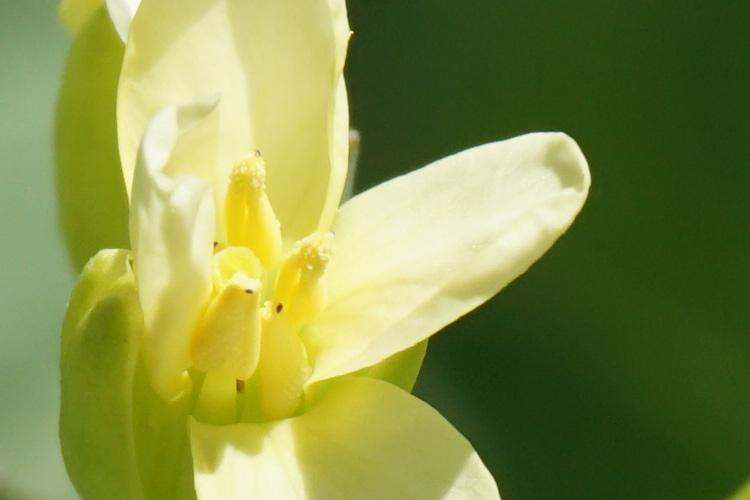white: (89, 12, 563, 424)
